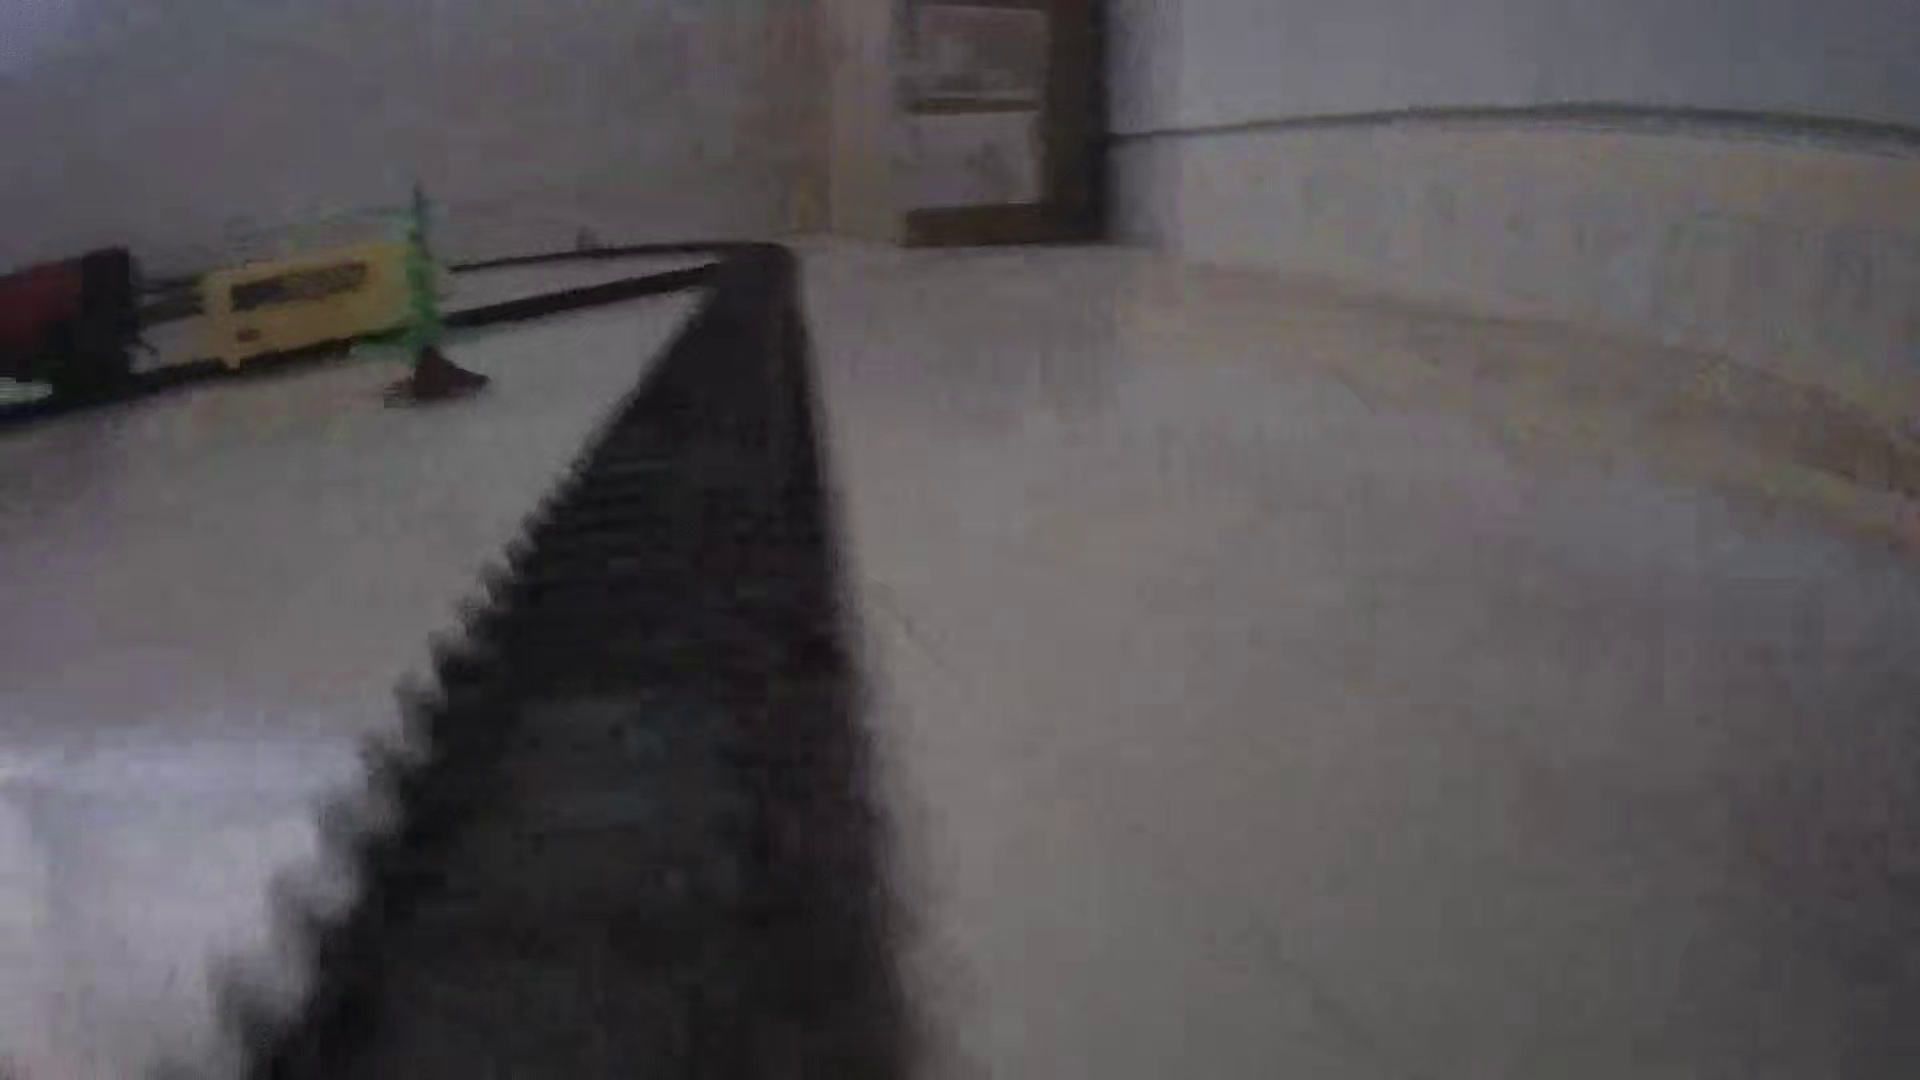tree: (372, 175, 495, 411)
